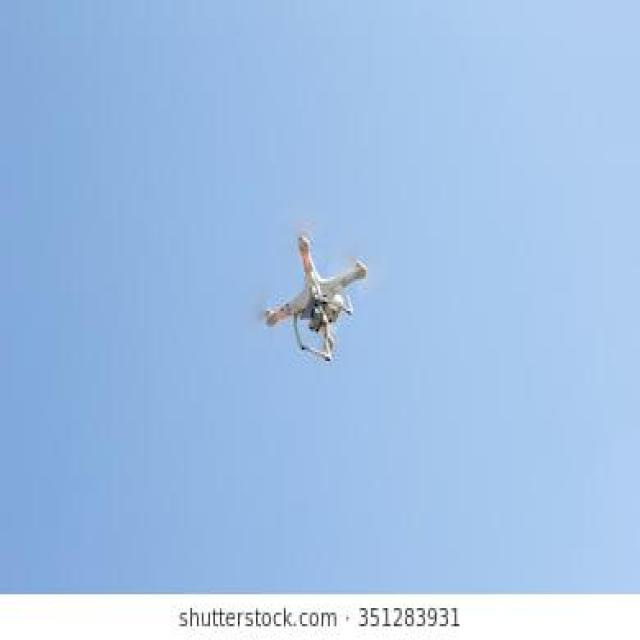drone: (0, 340, 640, 640)
